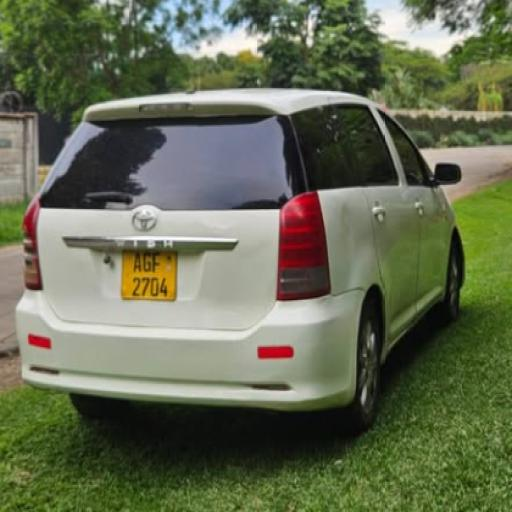number-plates: (119, 246, 179, 299)
